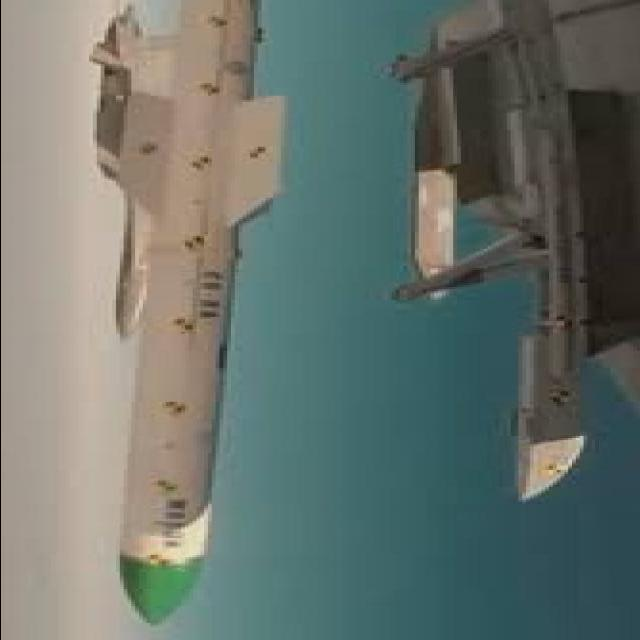Missile: (112, 0, 258, 640)
